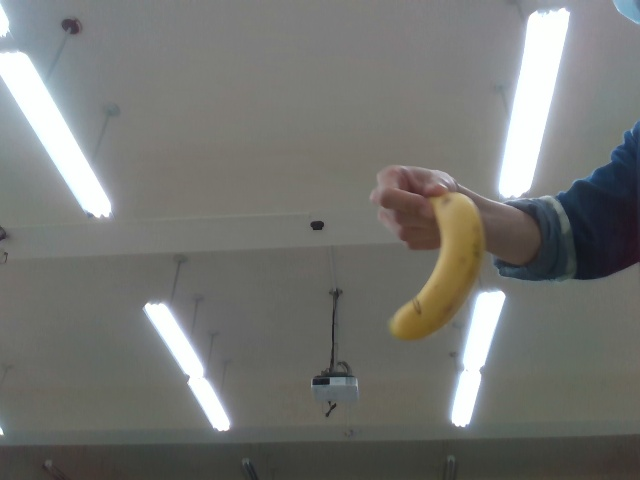banana: (386, 188, 488, 340)
